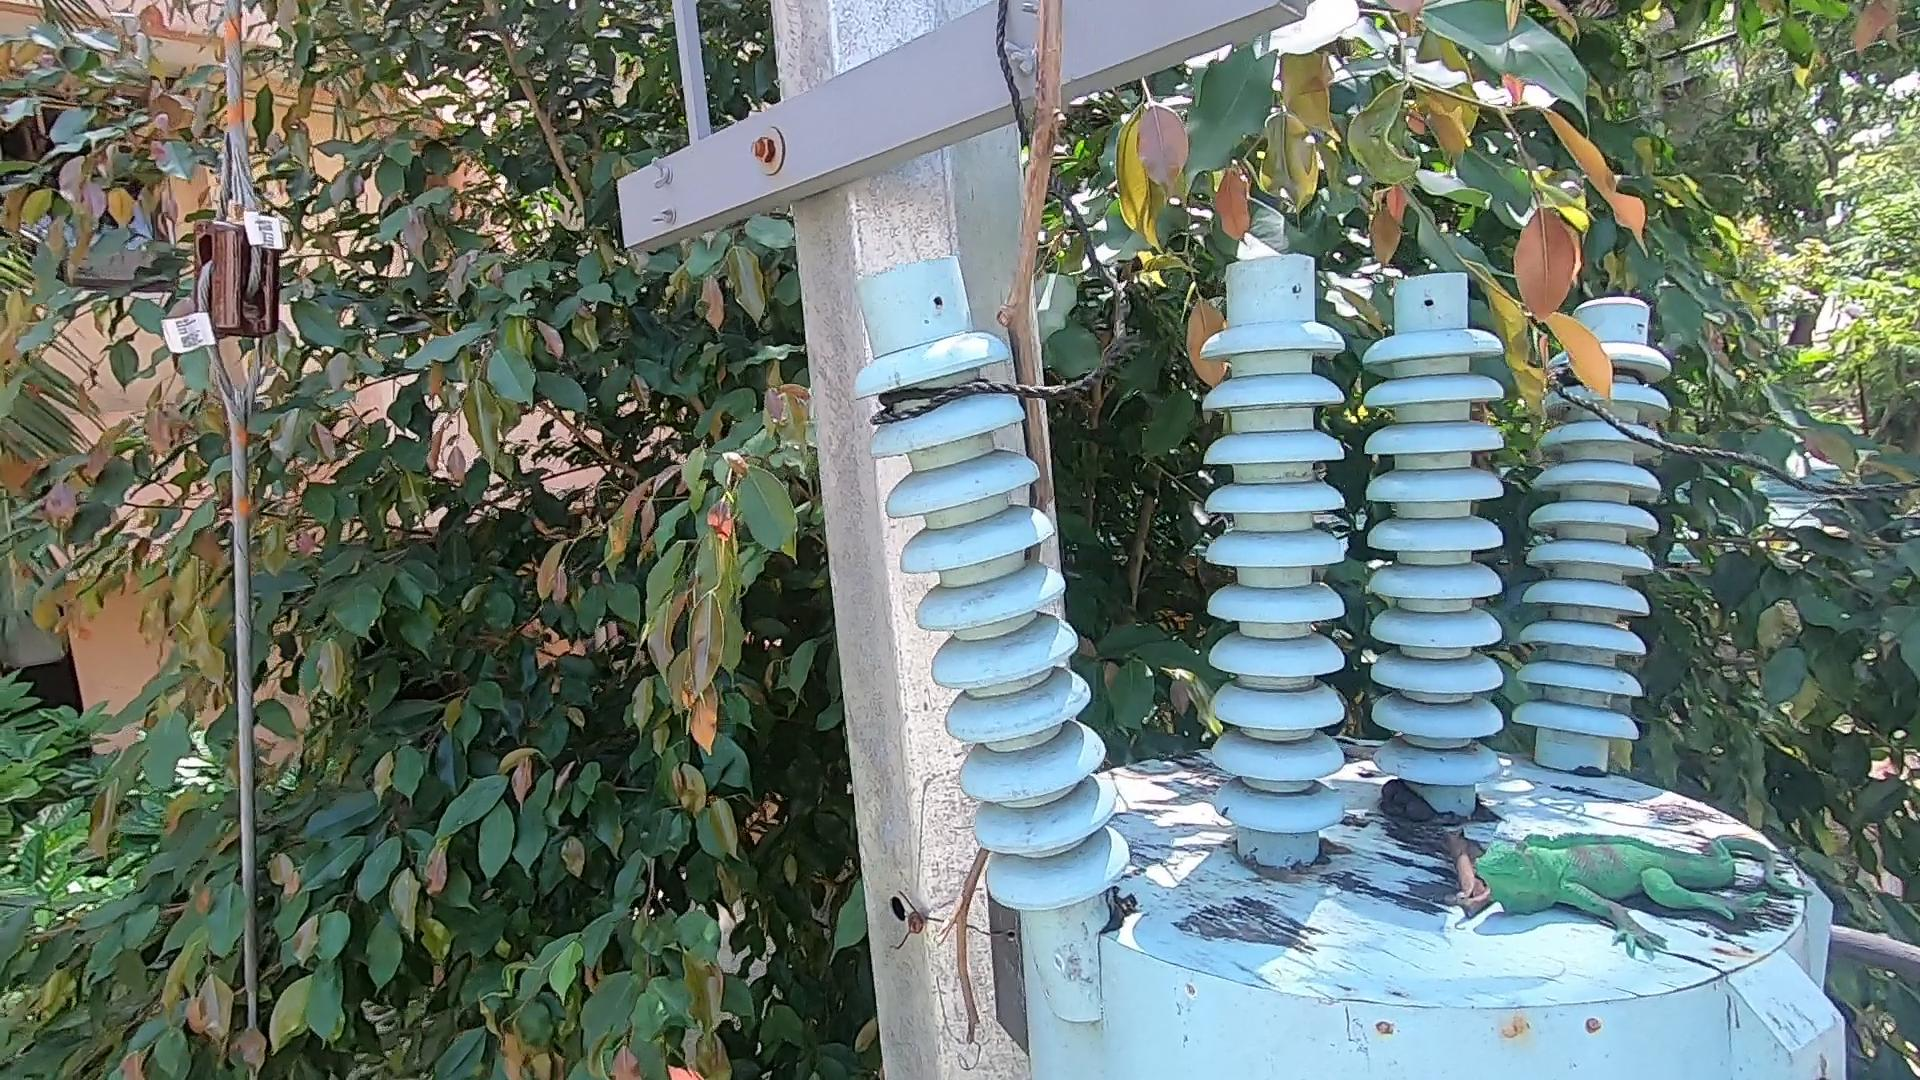branch with leaves: (1352, 216, 1642, 444)
leaf: (1431, 823, 1491, 923), (1371, 781, 1456, 829), (1098, 884, 1153, 944)
tree branch: (934, 1, 1116, 1043)
